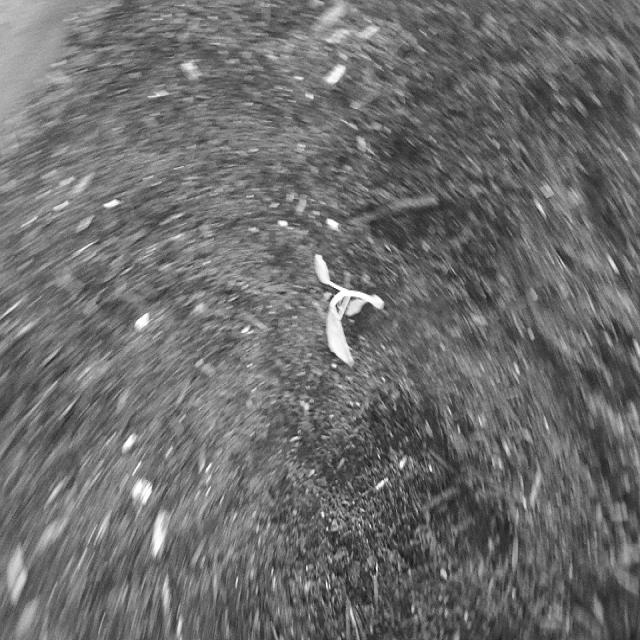Healthy: (304, 230, 400, 388)
